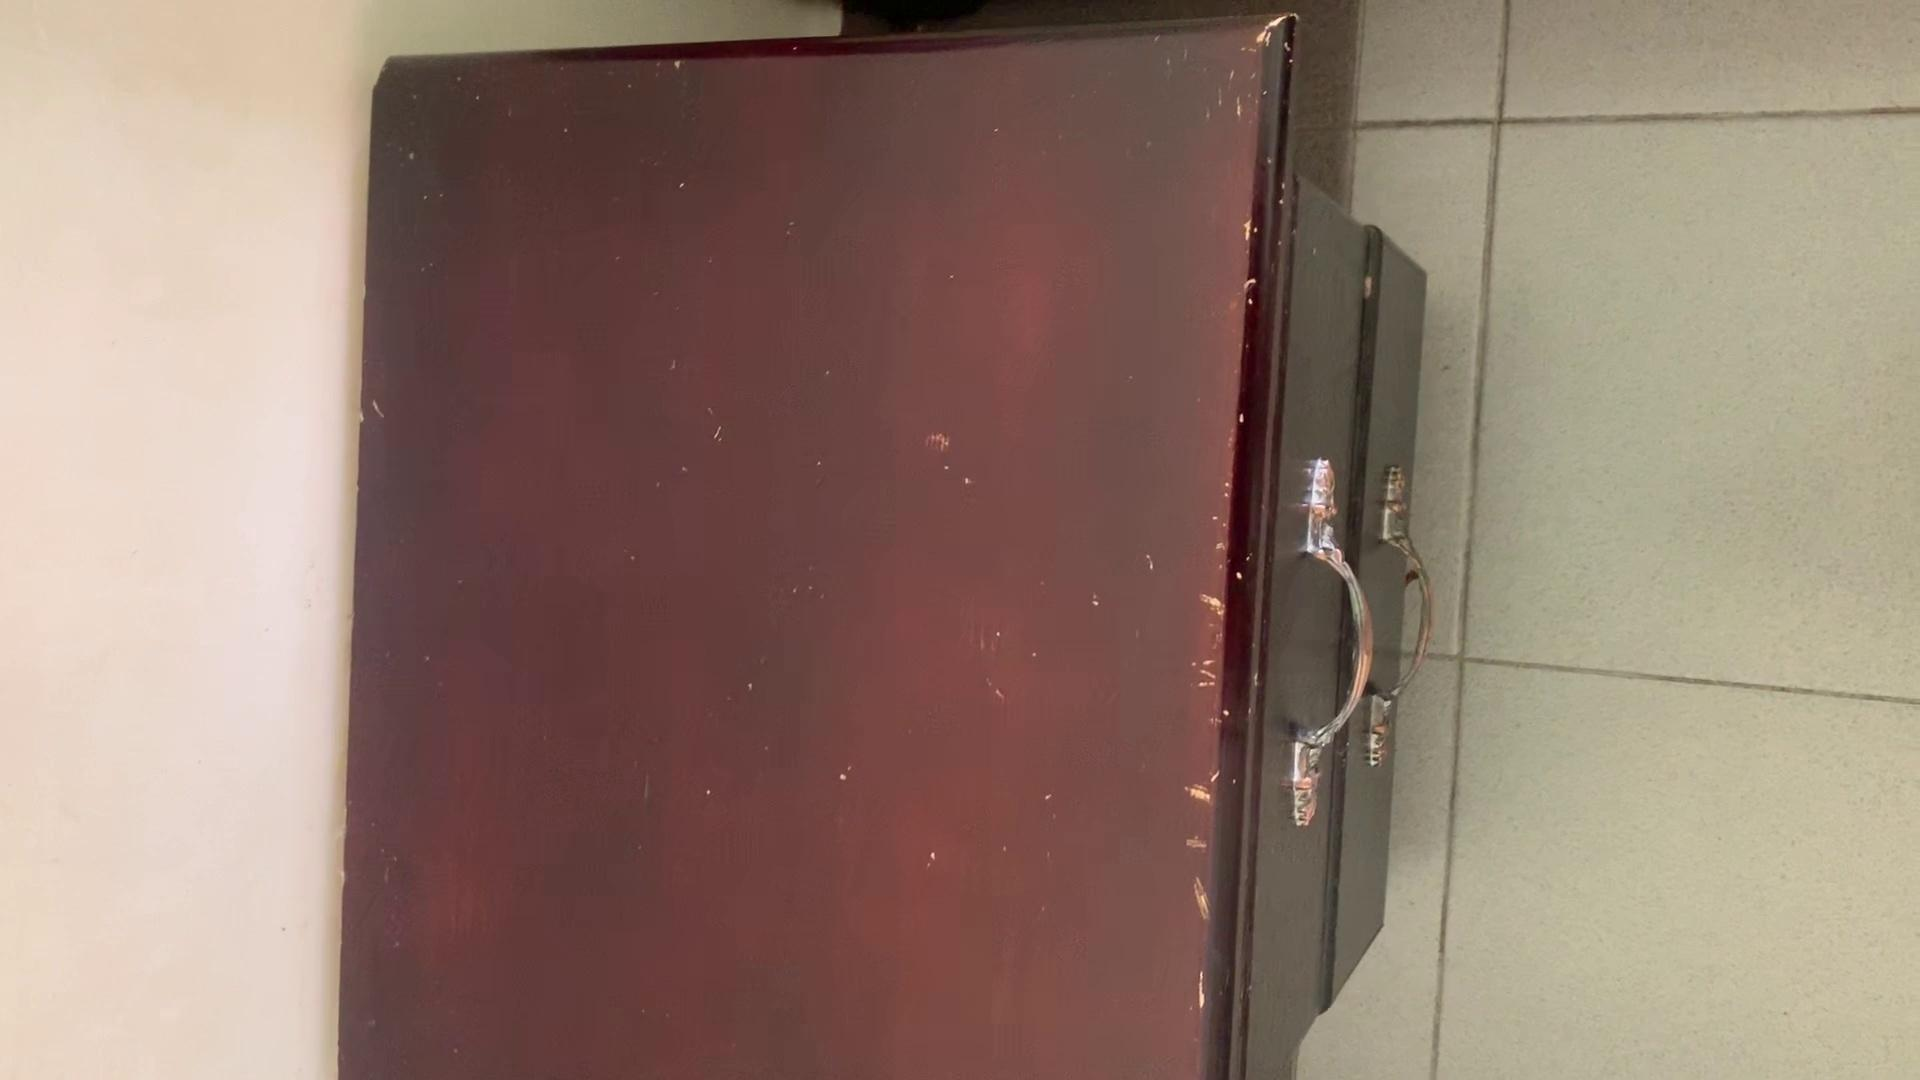cabinet_door: (1251, 200, 1341, 1068), (1352, 227, 1402, 997)
handle: (1283, 444, 1378, 839), (1364, 454, 1439, 782)
